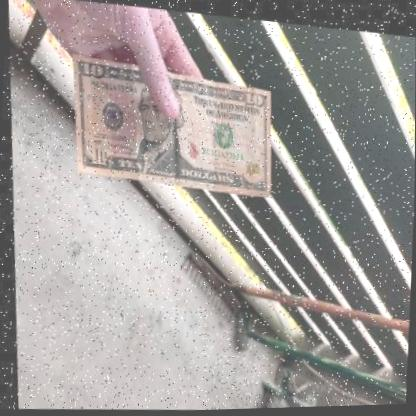ten-front: (71, 52, 269, 194)
